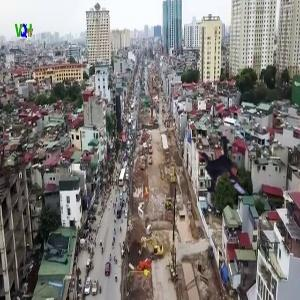drone: (186, 131, 268, 213)
